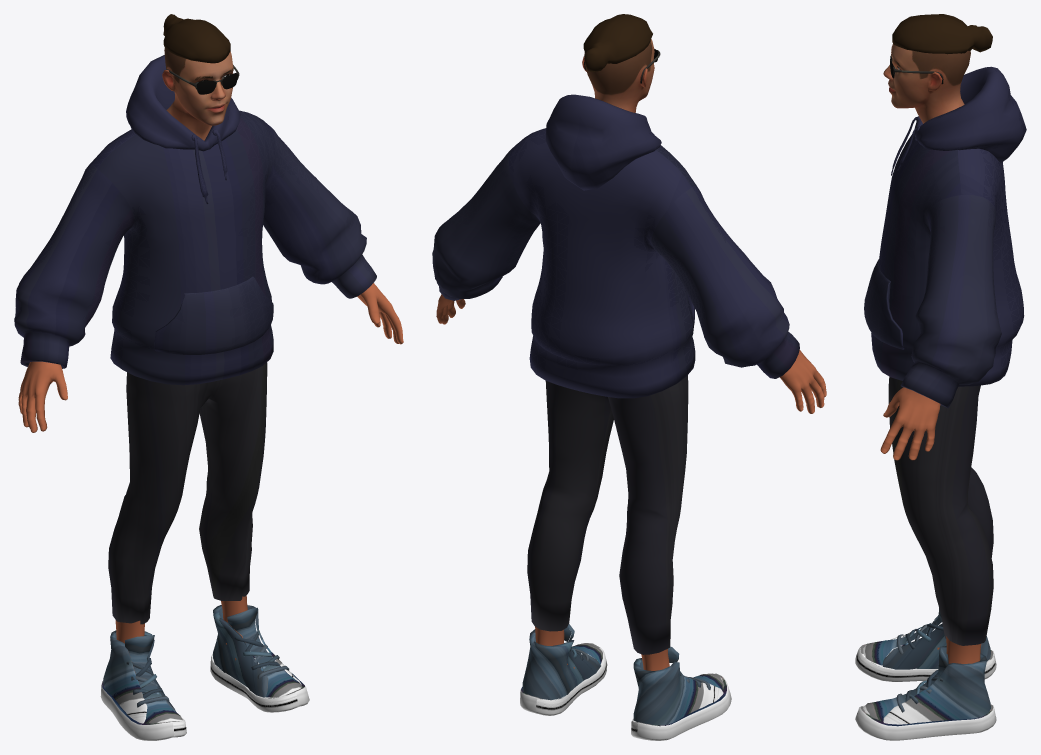
File: personaje.gltf
3 renders of one model, left to right at view 1: azimuth 30°, elevation 25°; view 2: azimuth 150°, elevation 25°; view 3: azimuth 270°, elevation 25°, orthographic.
Parts seen in each view (by area): view 1: Wolf3D_Outfit_Top, Wolf3D_Outfit_Bottom, Wolf3D_Outfit_Footwear, Wolf3D_Body, Wolf3D_Head, Wolf3D_Hair; view 2: Wolf3D_Outfit_Top, Wolf3D_Outfit_Bottom, Wolf3D_Outfit_Footwear, Wolf3D_Body, Wolf3D_Hair, Wolf3D_Head; view 3: Wolf3D_Outfit_Top, Wolf3D_Outfit_Bottom, Wolf3D_Outfit_Footwear, Wolf3D_Head, Wolf3D_Body, Wolf3D_Hair.
Boxes of the visible parts, left/top/right/bottom form: Wolf3D_Outfit_Top: left=14, top=55, right=376, bottom=385; Wolf3D_Outfit_Bottom: left=108, top=362, right=267, bottom=624; Wolf3D_Outfit_Footwear: left=100, top=605, right=309, bottom=740; Wolf3D_Body: left=18, top=283, right=403, bottom=672; Wolf3D_Head: left=162, top=48, right=233, bottom=140; Wolf3D_Hair: left=163, top=14, right=230, bottom=63; Wolf3D_Outfit_Top: left=432, top=94, right=799, bottom=398; Wolf3D_Outfit_Bottom: left=527, top=375, right=688, bottom=654; Wolf3D_Outfit_Footwear: left=520, top=624, right=731, bottom=740; Wolf3D_Body: left=436, top=294, right=826, bottom=670; Wolf3D_Hair: left=583, top=14, right=652, bottom=71; Wolf3D_Head: left=582, top=39, right=654, bottom=112; Wolf3D_Outfit_Top: left=864, top=66, right=1026, bottom=408; Wolf3D_Outfit_Bottom: left=888, top=376, right=993, bottom=645; Wolf3D_Outfit_Footwear: left=855, top=608, right=996, bottom=740; Wolf3D_Head: left=883, top=44, right=970, bottom=123; Wolf3D_Body: left=880, top=387, right=981, bottom=663; Wolf3D_Hair: left=892, top=14, right=992, bottom=54.
Bounding box in the file's own units: 1.06 × 1.86 × 0.4206.
10 materials, 10 textured.
